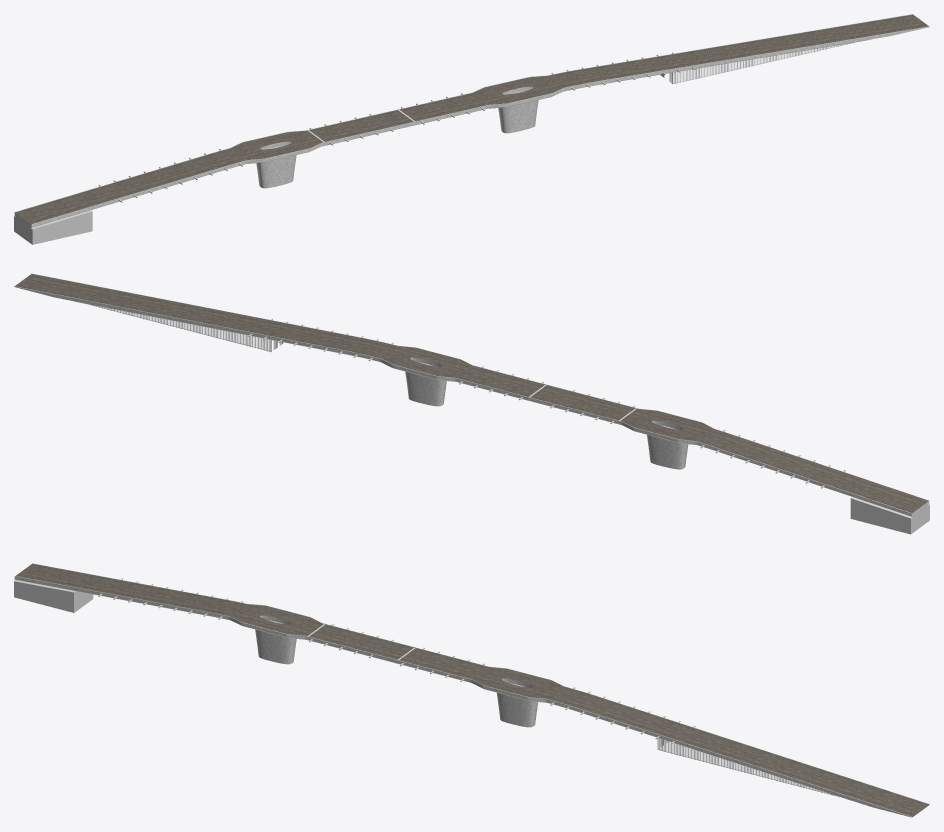
The model's file is SM_Ponte_Impalcato.fbx.
3 renders of one model, top to bottom at view 1: azimuth 30°, elevation 25°; view 2: azimuth 150°, elevation 25°; view 3: azimuth 330°, elevation 25°, orthographic. The views are drawn at different scales.
Visible parts, largest first — view 1: SM_Ponte_Impalcato; view 2: SM_Ponte_Impalcato; view 3: SM_Ponte_Impalcato.
Part boxes in pixels (left/top/right/bottom): SM_Ponte_Impalcato: left=14, top=14, right=929, bottom=244; SM_Ponte_Impalcato: left=14, top=273, right=929, bottom=534; SM_Ponte_Impalcato: left=14, top=563, right=929, bottom=817.
Size of what is drawn, in the model's own units: 17900 by 1173 by 737.
3 materials, 2 textured.
